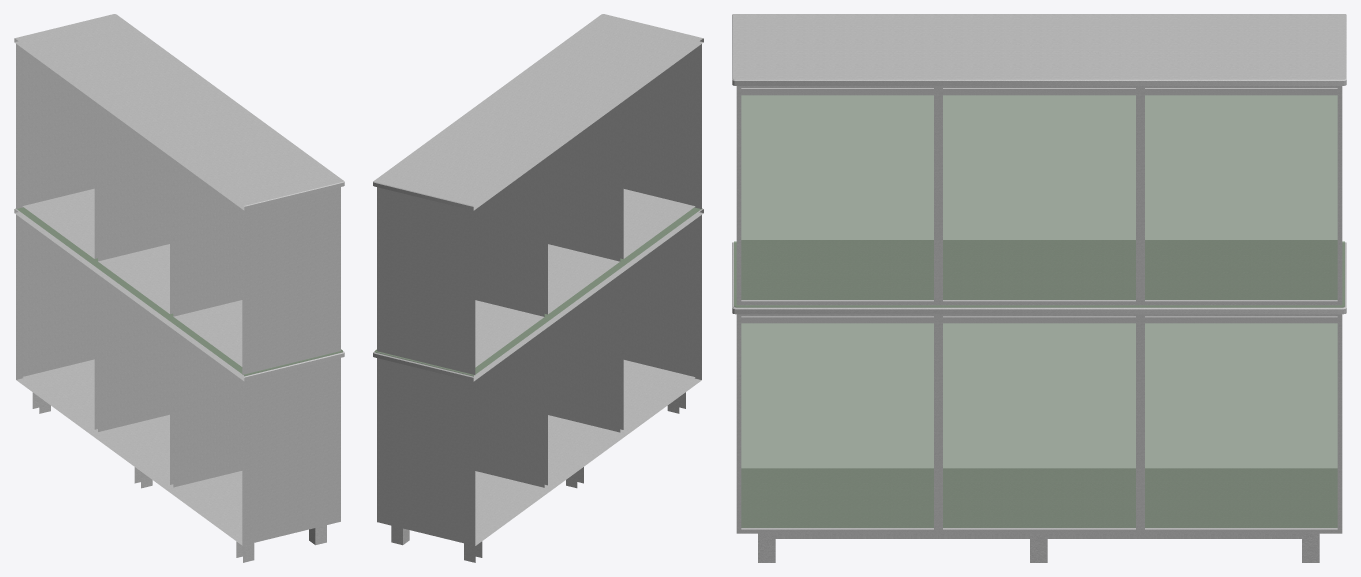
File: Dressoir_Glass2.fbx
The picture shows the model from 3 angles, left to right: view 1: azimuth 30°, elevation 25°; view 2: azimuth 150°, elevation 25°; view 3: azimuth 270°, elevation 25°; orthographic projection. The views are drawn at different scales.
Visible parts, largest first — view 1: Dressoir_Glass2; view 2: Dressoir_Glass2; view 3: Dressoir_Glass2.
Boxes of the visible parts, x1,y1,x2,y2 form: Dressoir_Glass2: (14,14,344,562); Dressoir_Glass2: (373,14,703,562); Dressoir_Glass2: (732,14,1346,562).
Size of the model in its own units: 50.38 by 173 by 198.
